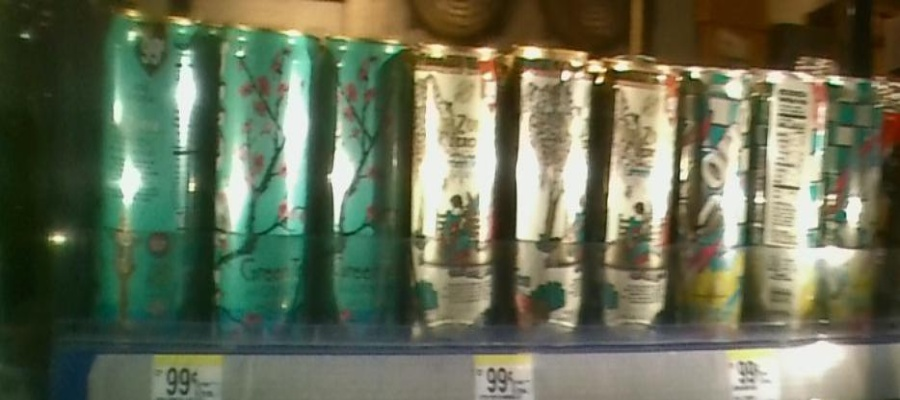bottle: (91, 9, 210, 349), (219, 9, 319, 354), (410, 26, 503, 345), (323, 13, 408, 338), (508, 26, 591, 337), (595, 42, 679, 346), (680, 55, 754, 346), (755, 54, 826, 346), (827, 54, 888, 343)
